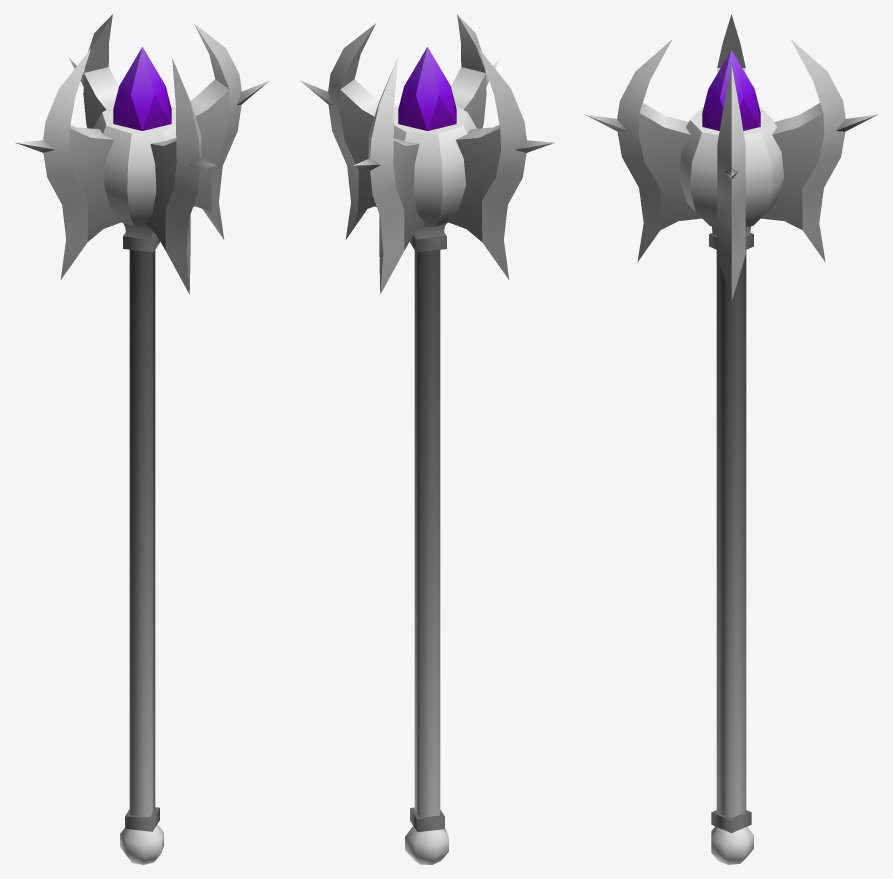
File: Hammer2h_21.fbx
The picture shows the model from 3 angles, left to right: view 1: azimuth 30°, elevation 25°; view 2: azimuth 150°, elevation 25°; view 3: azimuth 270°, elevation 25°; orthographic projection.
Parts seen in each view (by area): view 1: Hammer2h_21; view 2: Hammer2h_21; view 3: Hammer2h_21.
Part boxes in pixels (x1=…): Hammer2h_21: x1=15, y1=14, x2=269, y2=864; Hammer2h_21: x1=300, y1=14, x2=554, y2=864; Hammer2h_21: x1=584, y1=14, x2=878, y2=864.
Size of the model in its own units: 48.19 by 149 by 48.19.
